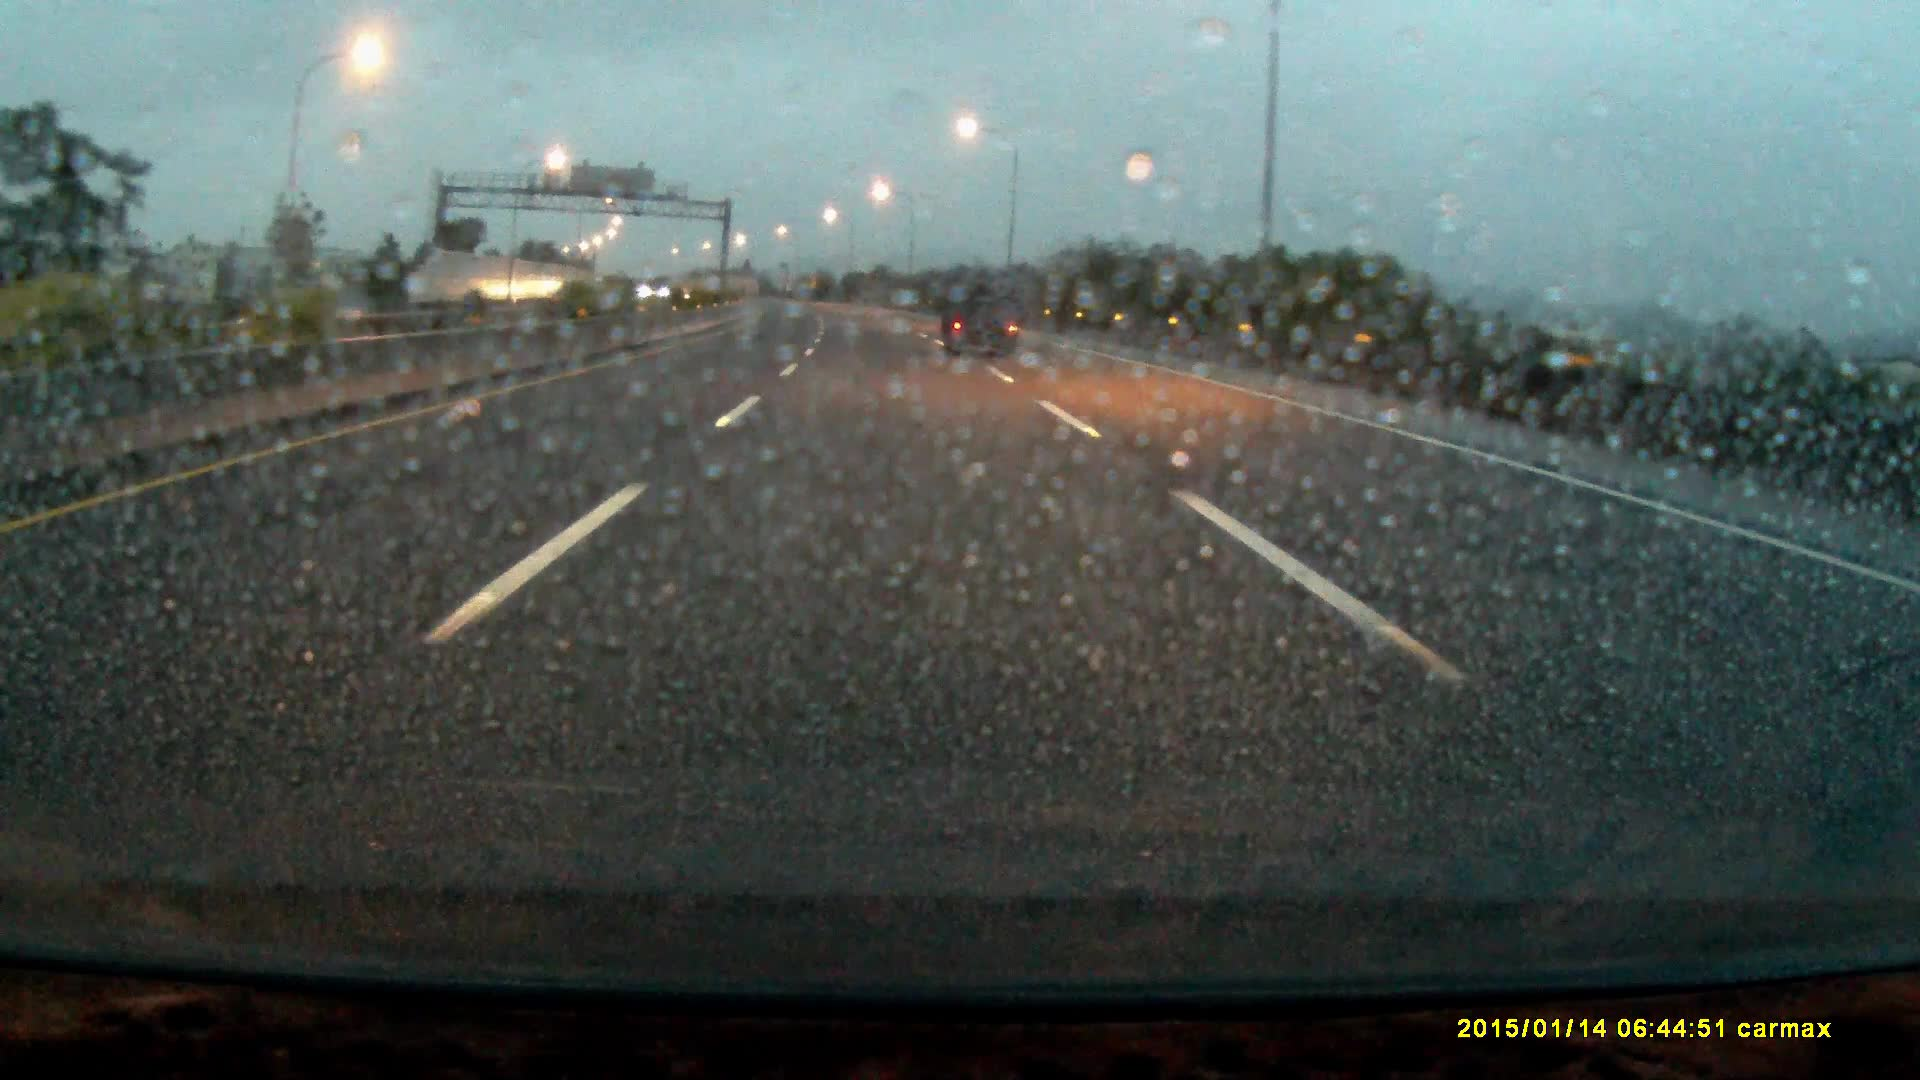vehicle: (939, 272, 1025, 359)
